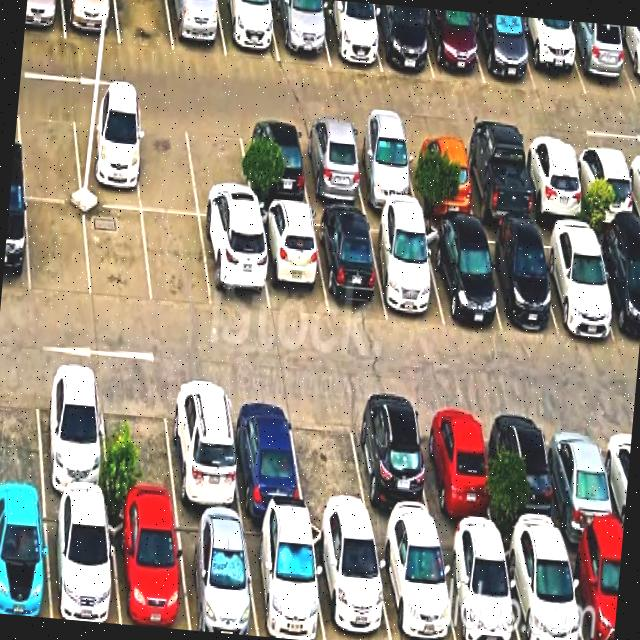empty: (289, 394, 370, 526), (100, 373, 177, 509), (185, 116, 253, 220), (132, 111, 198, 213), (84, 205, 151, 305), (142, 211, 211, 307), (17, 100, 81, 201), (26, 199, 90, 297), (0, 365, 43, 494), (115, 0, 173, 50)
occupied: (349, 399, 436, 531), (416, 402, 496, 537), (544, 411, 622, 544), (175, 512, 258, 636), (165, 380, 241, 515), (227, 386, 304, 518), (108, 506, 189, 630), (36, 366, 109, 502), (490, 406, 564, 540), (243, 518, 324, 640), (310, 523, 391, 640), (45, 499, 119, 624), (373, 531, 456, 640), (536, 227, 617, 338), (438, 533, 519, 640), (422, 224, 501, 331), (501, 537, 583, 640), (367, 217, 444, 326), (477, 227, 557, 330), (312, 212, 386, 317), (256, 208, 327, 316), (72, 106, 140, 209), (200, 218, 269, 313), (460, 137, 533, 225), (0, 496, 50, 618), (405, 133, 475, 218), (240, 121, 310, 206), (564, 541, 622, 640), (349, 128, 418, 211), (297, 125, 366, 208), (563, 20, 635, 99), (572, 143, 638, 227), (520, 141, 587, 223), (593, 230, 640, 346), (516, 16, 585, 94), (471, 12, 535, 89), (368, 3, 433, 78), (421, 8, 484, 83), (317, 0, 381, 71), (217, 0, 279, 61), (270, 0, 329, 64), (167, 0, 225, 56), (1, 193, 29, 293), (62, 0, 119, 43), (613, 24, 640, 99), (24, 0, 65, 38)
